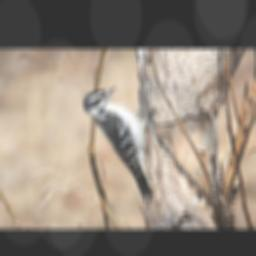Woodpecker: (82, 86, 162, 204)
